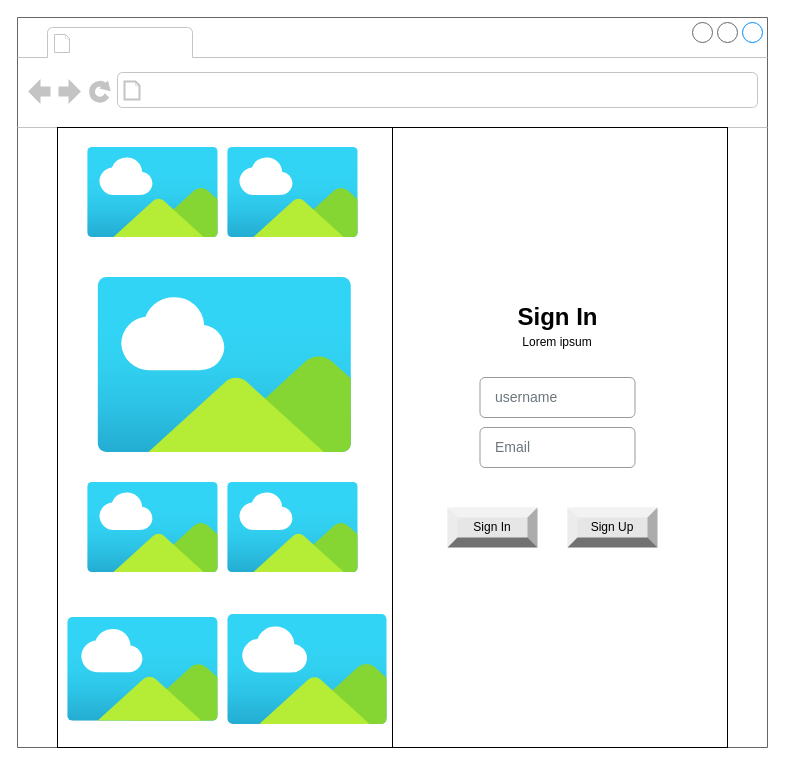
Image size: 785x766. Some labels were removed from this diagram. The shapes that lost their labels are listed below. From the top down, each one's centre as x and y in pixels, then its label:
At point 132,42: "Page 1".
At point 272,90: "https://www.draw.io".
